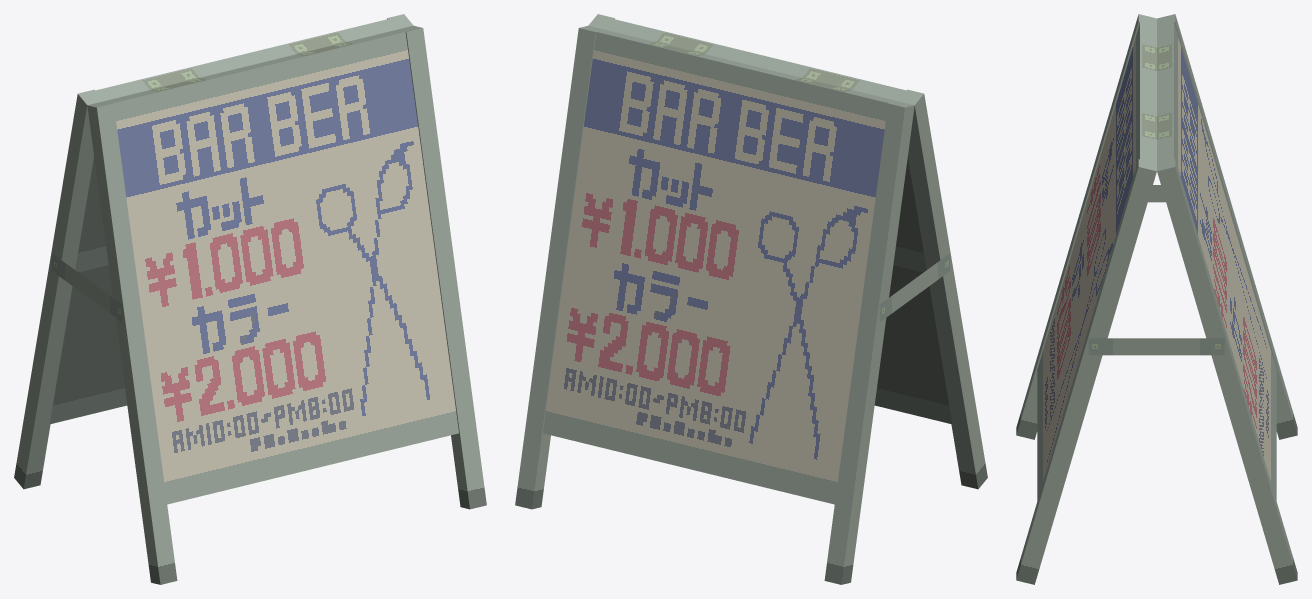
The model's file is 016c_Barbershop_Sign.glb.
3 renders of one model, left to right at view 1: azimuth 30°, elevation 25°; view 2: azimuth 150°, elevation 25°; view 3: azimuth 270°, elevation 25°, orthographic. The views are drawn at different scales.
Visible parts, largest first — view 1: part_0; view 2: part_0; view 3: part_0.
Boxes of the visible parts, x1=… form: part_0: x1=14, y1=14, x2=486, y2=584; part_0: x1=515, y1=14, x2=987, y2=584; part_0: x1=1016, y1=14, x2=1297, y2=584.
Size of the model in its own units: 0.5717 by 0.7281 by 0.4441.
1 material, 1 textured.
